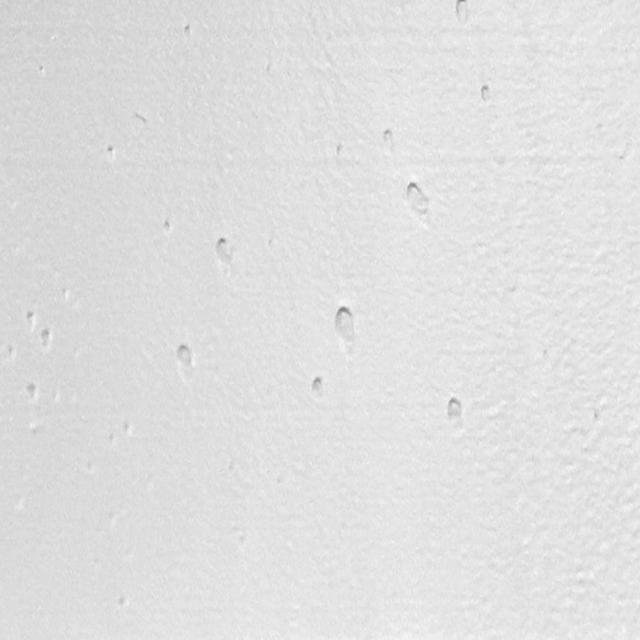pin holes: (400, 177, 437, 231), (328, 302, 361, 354), (210, 233, 234, 270), (443, 396, 468, 427), (174, 342, 198, 374), (453, 0, 476, 28), (476, 80, 497, 107), (380, 125, 399, 154), (309, 375, 330, 400), (38, 326, 58, 351), (22, 380, 40, 404), (161, 219, 176, 237), (134, 110, 152, 125), (104, 145, 118, 163), (5, 342, 18, 360), (24, 310, 38, 326), (116, 593, 130, 609), (121, 419, 134, 436), (59, 288, 72, 305), (335, 140, 348, 157), (184, 22, 196, 39), (38, 64, 49, 78), (267, 234, 275, 251)
